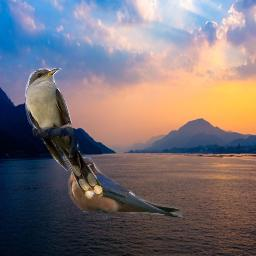Cuckoo: (25, 68, 103, 199)
Swallow: (68, 157, 193, 221)
